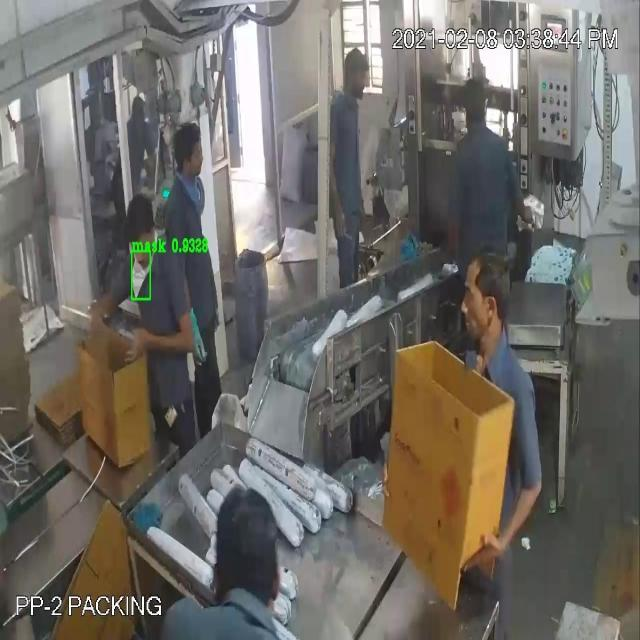No_Gloves: (40, 62, 505, 508)
